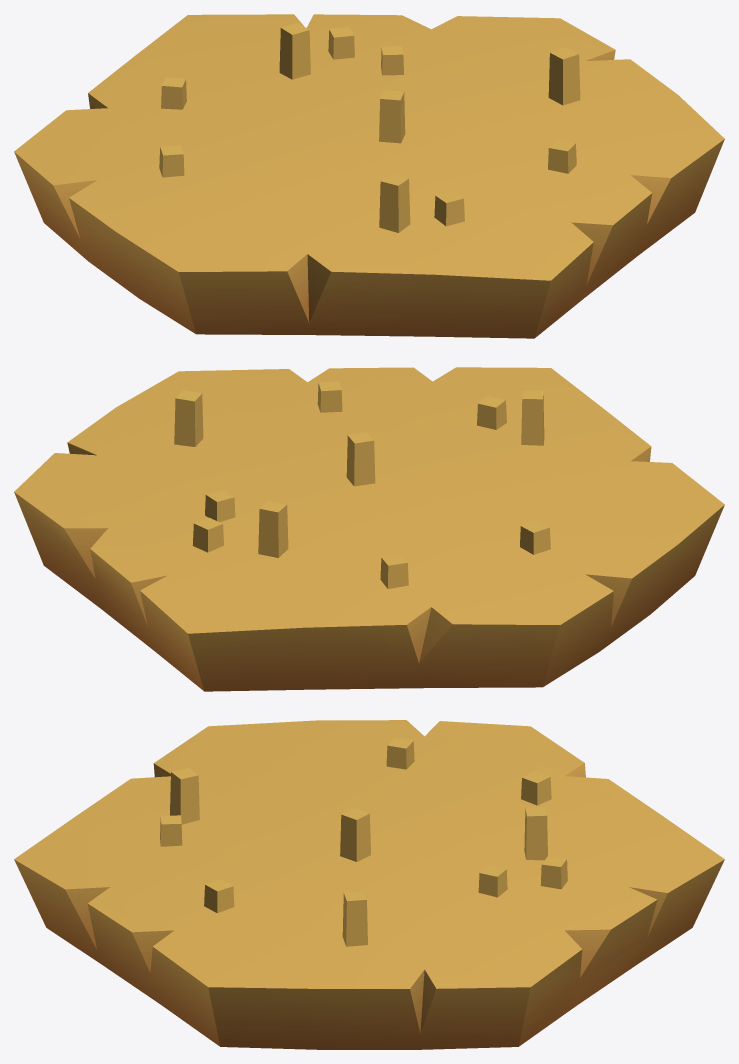
File: kaykit-medieval-hexagon-pack-building-grain.glb
The picture shows the model from 3 angles, top to bottom: view 1: azimuth 30°, elevation 25°; view 2: azimuth 150°, elevation 25°; view 3: azimuth 270°, elevation 25°; orthographic projection. The views are drawn at different scales.
Visible parts, largest first — view 1: building_grain; view 2: building_grain; view 3: building_grain.
Part boxes in pixels (x1,y1,x2,y2): building_grain: (14, 14, 724, 338); building_grain: (14, 367, 724, 691); building_grain: (14, 720, 724, 1049).
Size of the model in its own units: 1.87 by 0.3938 by 2.09.
1 material, 1 textured.
